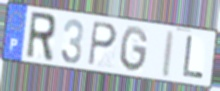3: (60, 18, 85, 65)
G: (119, 25, 150, 74)
I: (159, 29, 176, 80)
L: (181, 34, 205, 81)
P: (87, 20, 119, 68)
R: (24, 10, 58, 64)
